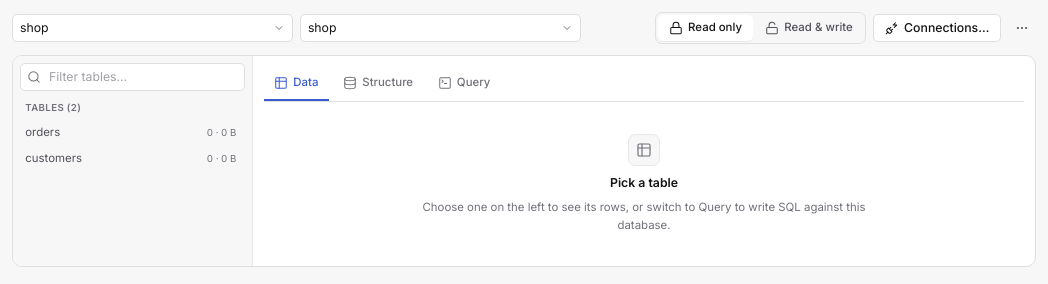
it: BrowserPanel › reloads the tables when the database changes
The image size is (1048, 284).
Expected: the text "orders" is shown, [25,123,60,142]
Click the button with aria-label "Database".
click(322, 28)  # box [300,14,581,42]
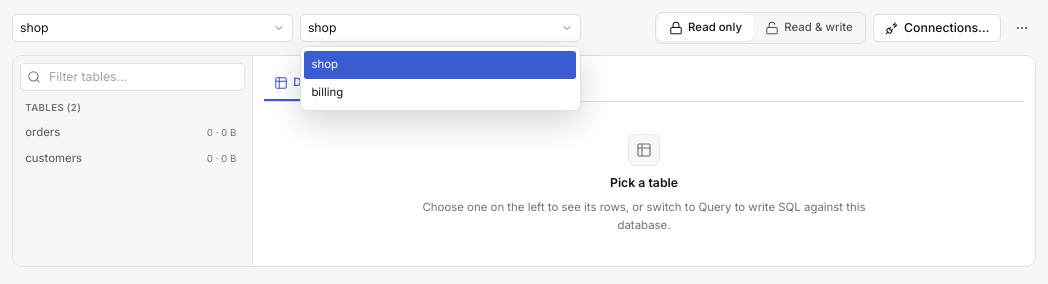
Click the option "billing".
click(327, 92)  # box [311,85,343,99]
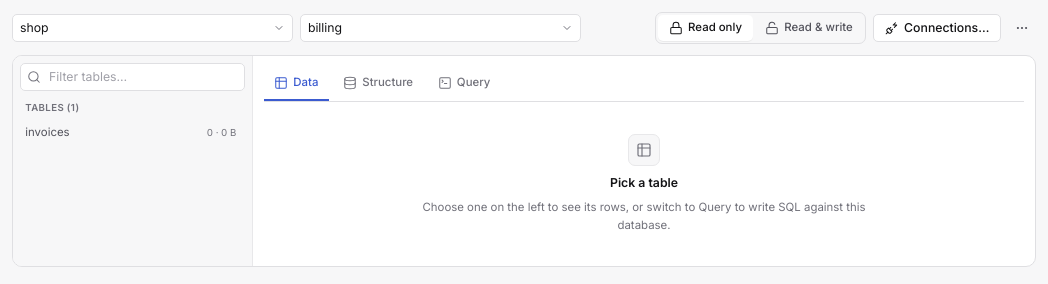
Result: the text "invoices" is shown at [25,123,70,142]
